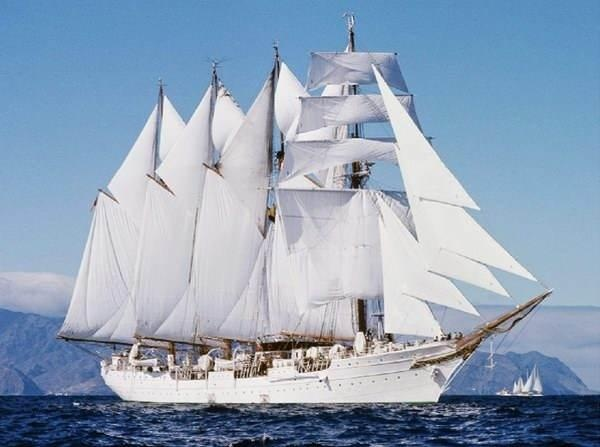fanchuan: (49, 9, 555, 404)
